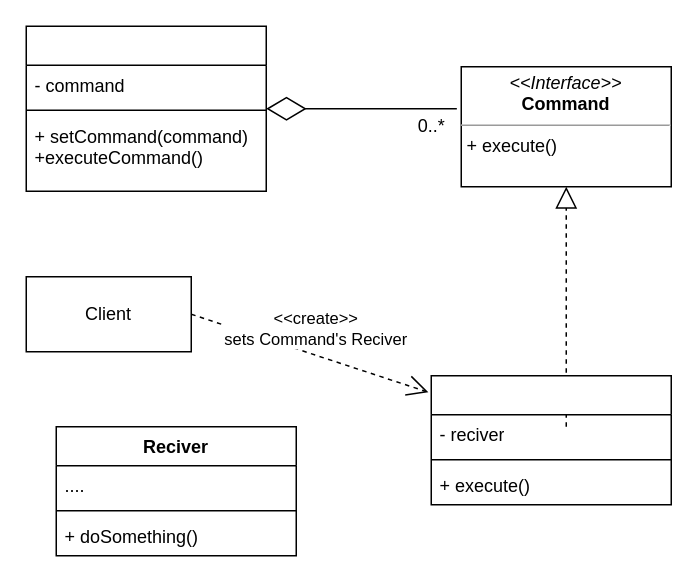
Some shapes in this 698 by 587 pixel diagram are drawn without their labels. The shapes that lost their labels are listed below. From the top down, each one's box as (x1, y1, x2, y2) in pixels, then its label:
(25, 25, 266, 191): Invoker
(430, 374, 671, 505): ConcreteCommand
